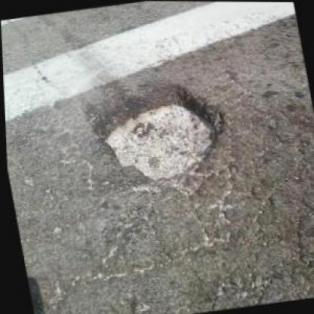Hueco: (85, 75, 235, 196)
